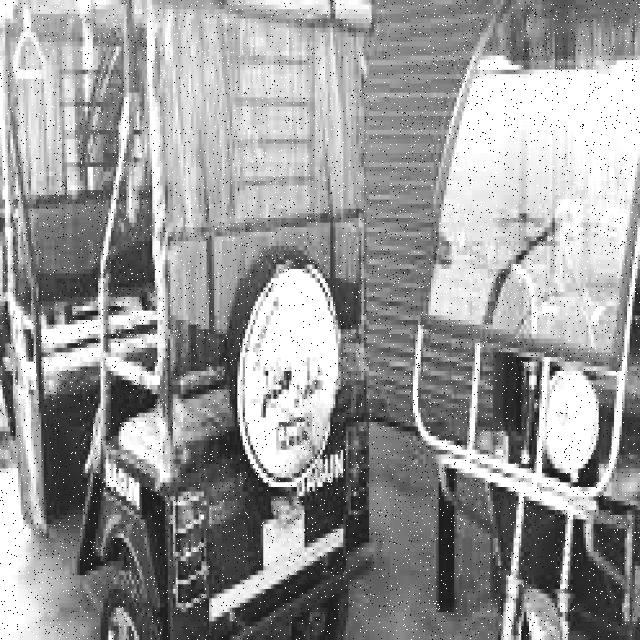Toto: (0, 0, 372, 640), (426, 0, 640, 640)
